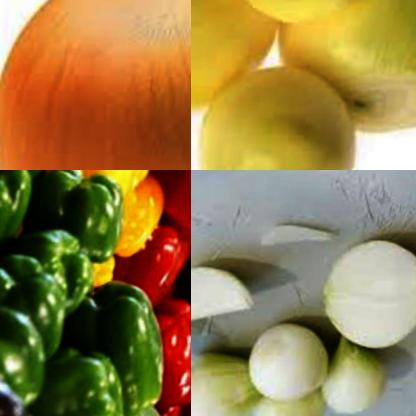bell pepper: (0, 170, 191, 416)
onion: (0, 0, 191, 170), (266, 0, 416, 146), (191, 62, 369, 170), (191, 0, 309, 121), (323, 231, 416, 351), (240, 324, 338, 406), (313, 336, 400, 416), (191, 261, 270, 335), (191, 344, 269, 416), (261, 212, 348, 254), (257, 383, 338, 416)
